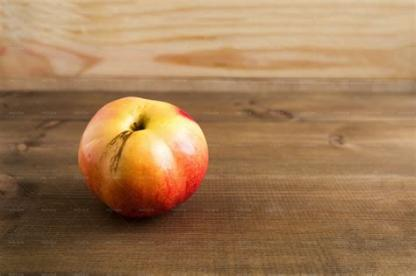defect: (96, 126, 136, 178)
